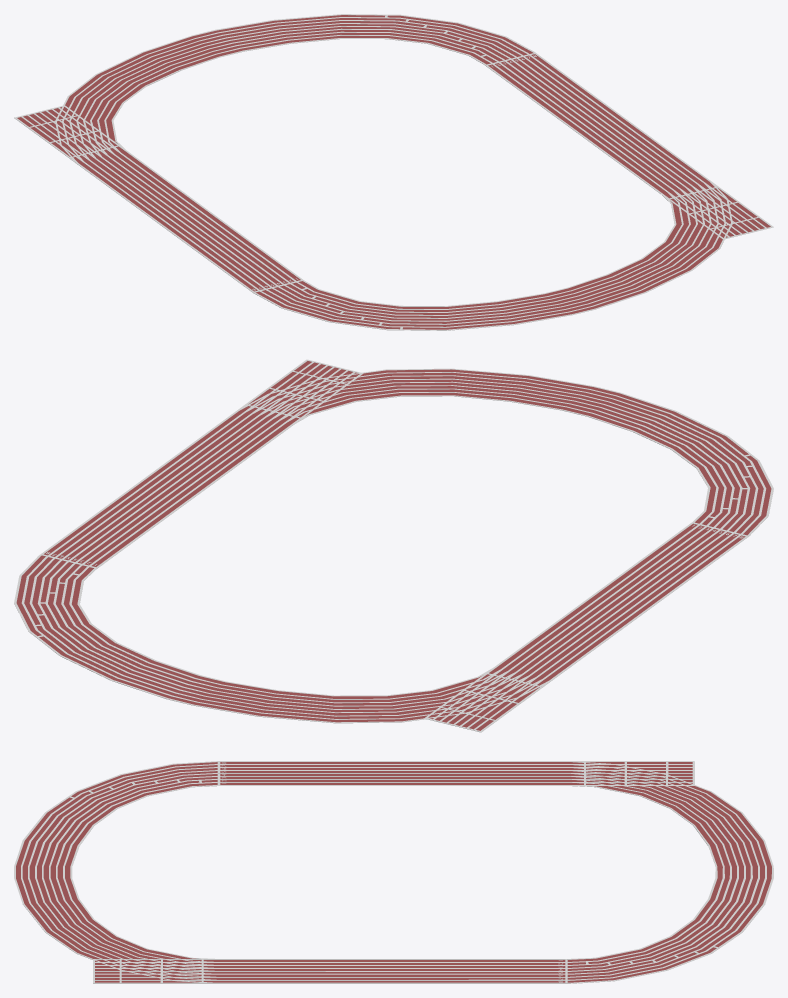
The model's file is Track Lined.fbx.
3 views of the same model, one above another, from view 1: azimuth 30°, elevation 25°; view 2: azimuth 150°, elevation 25°; view 3: azimuth 270°, elevation 25° (orthographic). The views are drawn at different scales.
Visible parts, largest first — view 1: Track Lined; view 2: Track Lined; view 3: Track Lined.
Part boxes in pixels (<box>): Track Lined: <box>14,14,773,330</box>; Track Lined: <box>14,359,773,732</box>; Track Lined: <box>14,761,773,983</box>.
Bounding box in the file's own units: 40115 × 42 × 57886.
